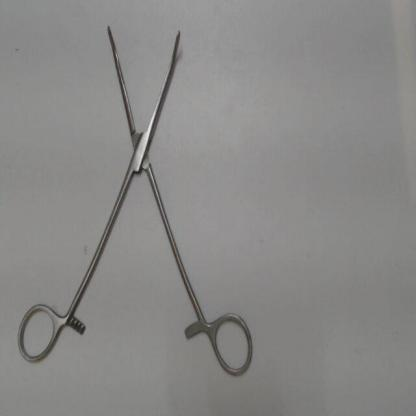Lahey Forceps: (6, 20, 261, 386)
